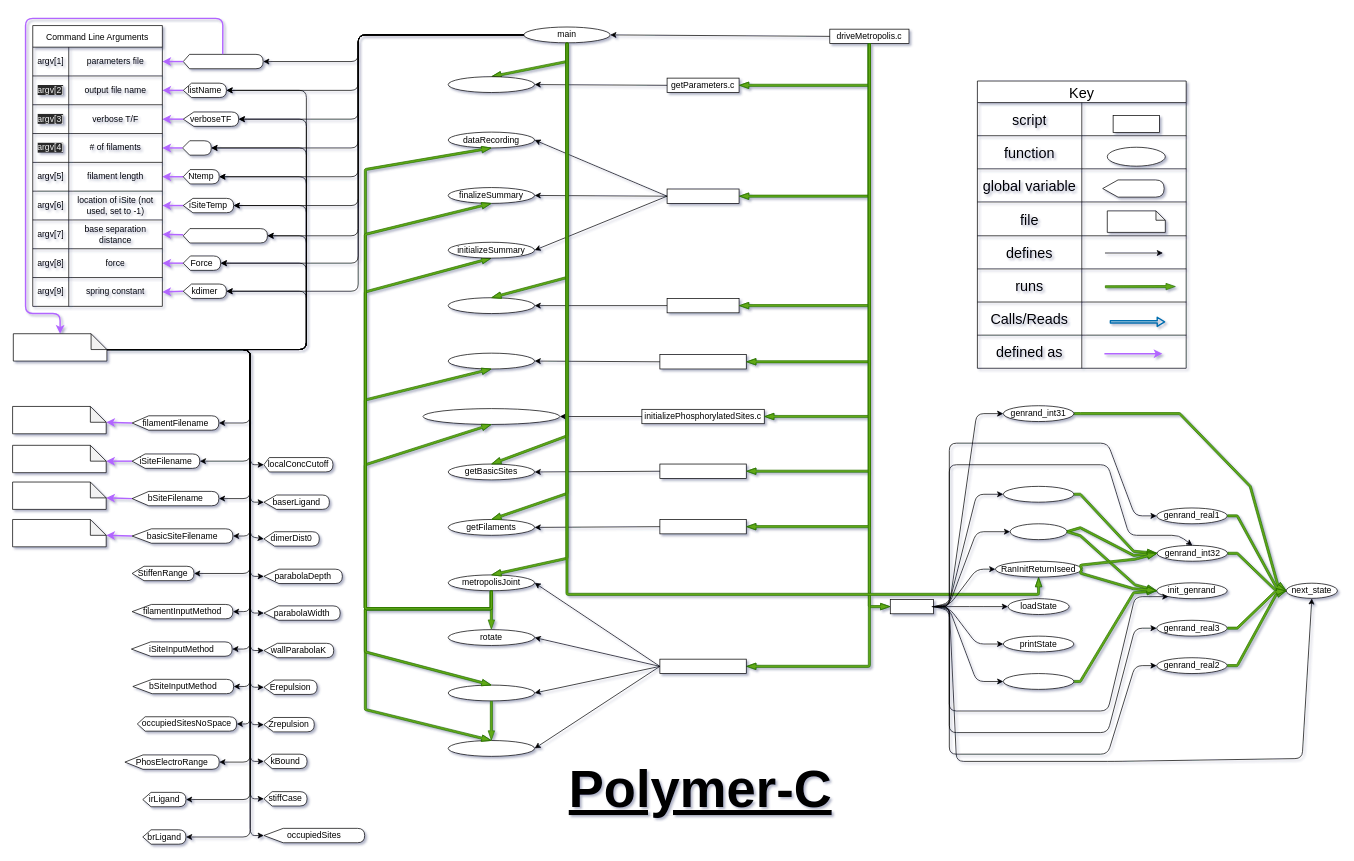
Some shapes in this 1354 by 861 pixel diagram are drawn without their labels. Here are the shapes that lost their labels. From the top down, the centre of each, then its label:
At (223,61): "paramsFilename".
At (491,84): "getParameters".
At (196,147): "NFil".
At (702,195): "outputControl.c".
At (225,235): "baseSepDistance".
At (491,305): "getSites".
At (702,305): "getSites.c".
At (60,347): "parameters.txt".
At (491,360): "initializeStiffSites".
At (702,361): "initializeStiffSites.c".
At (59,420): "filaments.txt".
At (491,416): "initializePhosphorylatedSites".
At (59,459): "iSites.txt".
At (702,470): "getBasicSites.c".
At (59,495): "bSites.txt".
At (1038,494): "genrand_res53".
At (59,533): "basicSites.txt".
At (702,526): "getFilaments.c".
At (1038,531): "RanInit".
At (911,606): "twister.c".
At (702,666): "metropolisJoint.c".
At (1038,681): "init_by_array".
At (491,692): "stationarity".
At (491,748): "appendBins".
